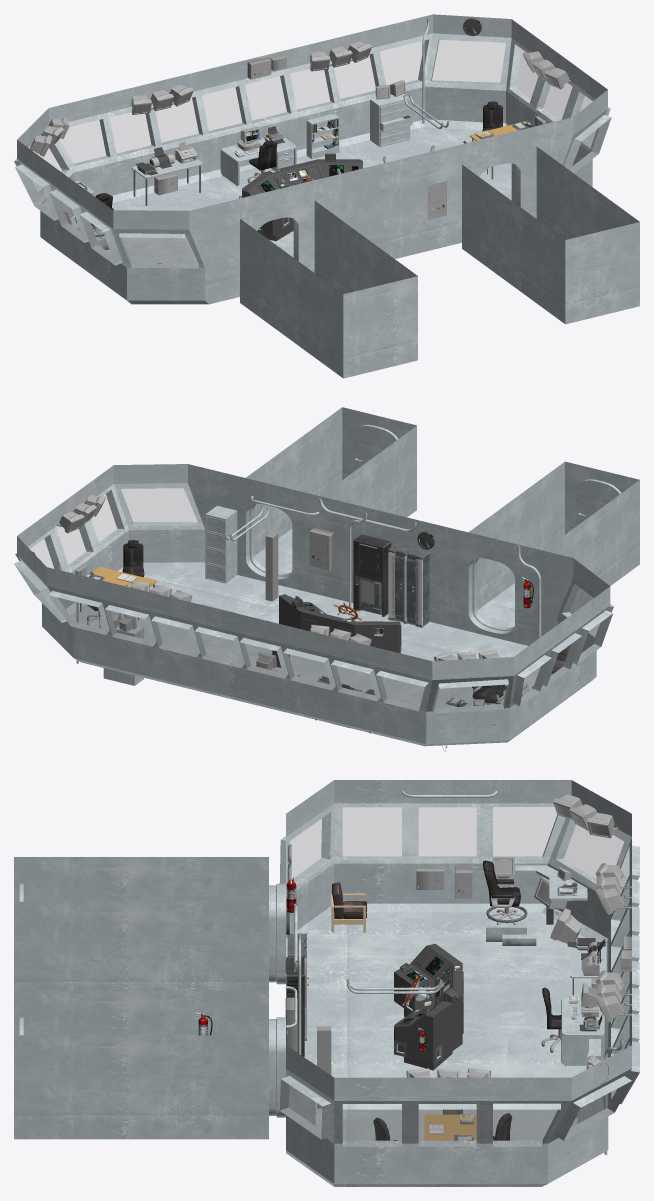
The model's file is Ships-Bridge-A_v16b_Expanded3.fbx.
3 views of the same model, one above another, from view 1: azimuth 30°, elevation 25°; view 2: azimuth 150°, elevation 25°; view 3: azimuth 270°, elevation 25° (orthographic). The views are drawn at different scales.
Visible parts, largest first — view 1: Ships_Bridge_A_v16:RearWalls_01, Ships_Bridge_A_v16:Bridge_Walls_01, Ships_Bridge_A_v16:Glass_01, polySurface157.001, Ships_Bridge_A_v16:FrontDesk_01, Ships_Bridge_A_v16:ModernChest13, Ships_Bridge_A_v16:Comms_Desk_01, Ships_Bridge_A_v16:Bookcase5, polySurface33, polySurface81, polySurface58, polySurface83 (+3 smaller); view 2: Ships_Bridge_A_v16:Bridge_Walls_01, Ships_Bridge_A_v16:RearWalls_01, Ships_Bridge_A_v16:Glass_01, polySurface157.001, Ships_Bridge_A_v16:Console_01, Ships_Bridge_A_v16:OB_PSTLU3_LockerUnit_014, Ships_Bridge_A_v16:FileCabinet_01, Ships_Bridge_A_v16:Door_01, Ships_Bridge_A_v16:Door_02, polySurface124, Ships_Bridge_A_v16:ManRef, polySurface58 (+9 smaller); view 3: Ships_Bridge_A_v16:Bridge_Walls_01, Ships_Bridge_A_v16:RearWalls_01, Ships_Bridge_A_v16:Glass_01, polySurface157.001, Ships_Bridge_A_v16:FrontDesk_01, Ships_Bridge_A_v16:Captain_Table_01, Ships_Bridge_A_v16:Chair_Captains_01, polySurface83, Ships_Bridge_A_v16:Comms_Desk_01, polySurface81, polySurface33, Ships_Bridge_A_v16:Chair_Easy_01 (+12 smaller).
Part boxes in pixels (x1=…): Ships_Bridge_A_v16:RearWalls_01: x1=189, y1=117, x2=639, y2=378; Ships_Bridge_A_v16:Bridge_Walls_01: x1=14, y1=14, x2=611, y2=304; Ships_Bridge_A_v16:Glass_01: x1=15, y1=40, x2=610, y2=267; polySurface157.001: x1=242, y1=153, x2=362, y2=241; Ships_Bridge_A_v16:FrontDesk_01: x1=220, y1=126, x2=296, y2=186; Ships_Bridge_A_v16:ModernChest13: x1=370, y1=94, x2=412, y2=146; Ships_Bridge_A_v16:Comms_Desk_01: x1=131, y1=142, x2=202, y2=205; Ships_Bridge_A_v16:Bookcase5: x1=306, y1=113, x2=339, y2=158; polySurface33: x1=131, y1=85, x2=193, y2=114; polySurface81: x1=309, y1=41, x2=372, y2=71; polySurface58: x1=522, y1=51, x2=570, y2=89; polySurface83: x1=27, y1=117, x2=69, y2=156; Ships_Bridge_A_v16:Bridge_Walls_01: x1=14, y1=464, x2=613, y2=746; Ships_Bridge_A_v16:RearWalls_01: x1=188, y1=407, x2=639, y2=645; Ships_Bridge_A_v16:Glass_01: x1=15, y1=488, x2=612, y2=713; polySurface157.001: x1=279, y1=594, x2=401, y2=653; Ships_Bridge_A_v16:Console_01: x1=353, y1=534, x2=391, y2=616; Ships_Bridge_A_v16:OB_PSTLU3_LockerUnit_014: x1=388, y1=543, x2=429, y2=627; Ships_Bridge_A_v16:FileCabinet_01: x1=205, y1=506, x2=237, y2=583; Ships_Bridge_A_v16:Door_01: x1=352, y1=424, x2=397, y2=472; Ships_Bridge_A_v16:Door_02: x1=576, y1=479, x2=621, y2=526; polySurface124: x1=309, y1=528, x2=334, y2=570; Ships_Bridge_A_v16:ManRef: x1=265, y1=532, x2=278, y2=601; polySurface58: x1=56, y1=495, x2=105, y2=533; Ships_Bridge_A_v16:Bridge_Walls_01: x1=279, y1=780, x2=639, y2=1186; Ships_Bridge_A_v16:RearWalls_01: x1=14, y1=857, x2=285, y2=1139; Ships_Bridge_A_v16:Glass_01: x1=280, y1=807, x2=631, y2=1146; polySurface157.001: x1=394, y1=943, x2=463, y2=1070; Ships_Bridge_A_v16:FrontDesk_01: x1=561, y1=983, x2=604, y2=1066; Ships_Bridge_A_v16:Captain_Table_01: x1=486, y1=865, x2=587, y2=945; Ships_Bridge_A_v16:Chair_Captains_01: x1=483, y1=860, x2=527, y2=924; polySurface83: x1=553, y1=794, x2=618, y2=838; Ships_Bridge_A_v16:Comms_Desk_01: x1=567, y1=938, x2=606, y2=995; polySurface81: x1=595, y1=970, x2=631, y2=1022; polySurface33: x1=595, y1=863, x2=631, y2=914; Ships_Bridge_A_v16:Chair_Easy_01: x1=331, y1=882, x2=366, y2=932.
Size of the model in its own units: 15.07 by 3.14 by 13.06.
